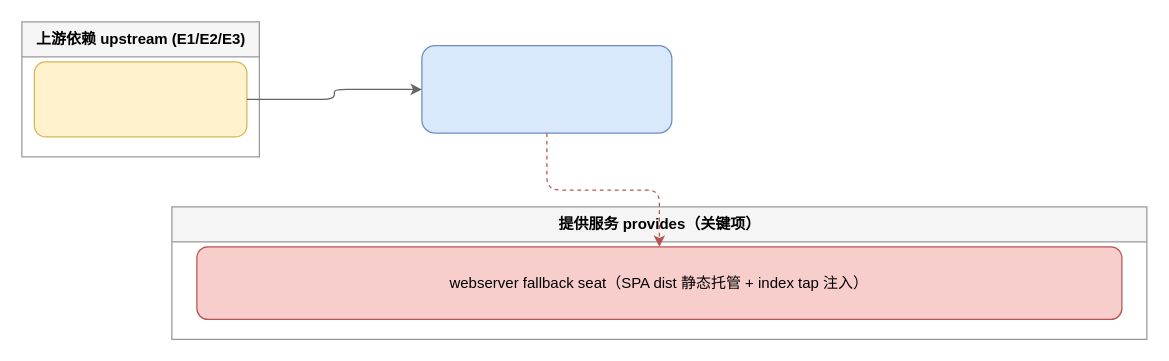
This 1169x361 diagram has some shape labels left out. The centre of each missing label's shape, as x and y in pixels:
"@deepseek-ai/dsh-host-frontend-static" goes at (x=546, y=88).
"dsh-host-webserver (E1+E2)" goes at (x=140, y=99).
